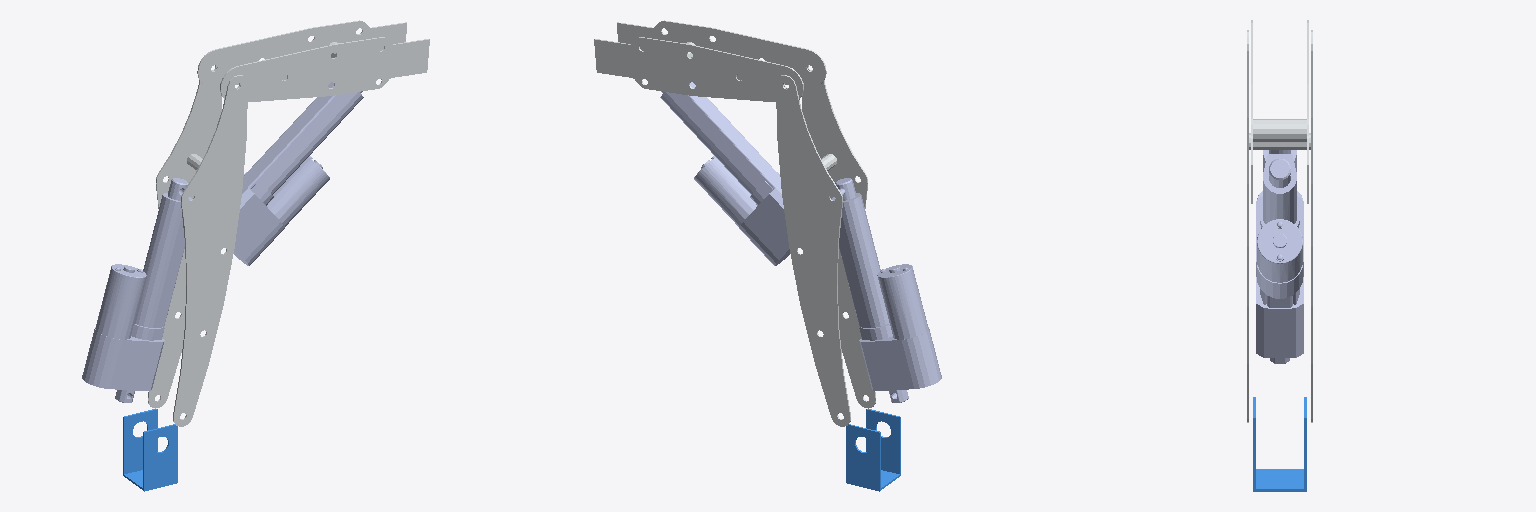
The robot description file, URDF, robot "arm_v2":
<?xml version="1.0" encoding="utf-8"?>
<!-- This URDF was automatically created by SolidWorks to URDF Exporter! Originally created by Stephen Brawner (brawner@gmail.com) 
     Commit Version: 1.6.0-4-g7f85cfe  Build Version: 1.6.7995.38578
     For more information, please see http://wiki.ros.org/sw_urdf_exporter -->
<robot
  name="arm_v2">
  <link
    name="base_link">
    <inertial>
      <origin
        xyz="0 4.8619E-18 0.0325"
        rpy="0 0 0" />
      <mass
        value="1.2622" />
      <inertia
        ixx="0.0027894"
        ixy="3.0464E-37"
        ixz="-7.8628E-36"
        iyy="0.0027894"
        iyz="-5.0096E-36"
        izz="0.00469" />
    </inertial>
    <visual>
      <origin
        xyz="0 0 0"
        rpy="0 0 0" />
      <geometry>
        <mesh
          filename="package://arm_v2/meshes/base_link.STL" />
      </geometry>
      <material
        name="">
        <color
          rgba="0.34118 0.66667 1 1" />
      </material>
    </visual>
    <collision>
      <origin
        xyz="0 0 0"
        rpy="0 0 0" />
      <geometry>
        <mesh
          filename="package://arm_v2/meshes/base_link.STL" />
      </geometry>
    </collision>
  </link>
  <link
    name="bracket_link">
    <inertial>
      <origin
        xyz="3.1709E-05 -1.0994E-17 0.021174"
        rpy="0 0 0" />
      <mass
        value="0.1844" />
      <inertia
        ixx="0.00016429"
        ixy="-5.5944E-20"
        ixz="-1.128E-06"
        iyy="0.00012823"
        iyz="-3.7411E-20"
        izz="0.00017784" />
    </inertial>
    <visual>
      <origin
        xyz="0 0 0"
        rpy="0 0 0" />
      <geometry>
        <mesh
          filename="package://arm_v2/meshes/bracket_link.STL" />
      </geometry>
      <material
        name="">
        <color
          rgba="0.89804 0.91765 0.92941 1" />
      </material>
    </visual>
    <collision>
      <origin
        xyz="0 0 0"
        rpy="0 0 0" />
      <geometry>
        <mesh
          filename="package://arm_v2/meshes/bracket_link.STL" />
      </geometry>
    </collision>
  </link>
  <joint
    name="bracket_joint"
    type="revolute">
    <origin
      xyz="0 0 0.056"
      rpy="0 0 0" />
    <parent
      link="base_link" />
    <child
      link="bracket_link" />
    <axis
      xyz="0 0 1" />
    <limit
      lower="-1.5"
      upper="1.5"
      effort="0"
      velocity="0" />
    <dynamics
      damping="0.05"
      friction="0.1" />
  </joint>
  <link
    name="actuator_humerus_link">
    <inertial>
      <origin
        xyz="0.0091905 -1.6846E-16 0.085885"
        rpy="0 0 0" />
      <mass
        value="0.39053" />
      <inertia
        ixx="0.0011334"
        ixy="1.5572E-19"
        ixz="-0.00034359"
        iyy="0.0014183"
        iyz="4.2582E-19"
        izz="0.0003715" />
    </inertial>
    <visual>
      <origin
        xyz="0 0 0"
        rpy="0 0 0" />
      <geometry>
        <mesh
          filename="package://arm_v2/meshes/actuator_humerus_link.STL" />
      </geometry>
      <material
        name="">
        <color
          rgba="0.79216 0.81961 0.93333 1" />
      </material>
    </visual>
    <collision>
      <origin
        xyz="0 0 0"
        rpy="0 0 0" />
      <geometry>
        <mesh
          filename="package://arm_v2/meshes/actuator_humerus_link.STL" />
      </geometry>
    </collision>
  </link>
  <joint
    name="actuator_humerus_joint"
    type="revolute">
    <origin
      xyz="-0.0318 0 0.056875"
      rpy="0 0 0" />
    <parent
      link="bracket_link" />
    <child
      link="actuator_humerus_link" />
    <axis
      xyz="0 1 0" />
    <limit
      lower="-1.5"
      upper="1.5"
      effort="0"
      velocity="0" />
    <dynamics
      damping="0.1"
      friction="0.25" />
  </joint>
  <link
    name="shaft_humerus_link">
    <inertial>
      <origin
        xyz="0.025159 -4.8418E-07 0.087064"
        rpy="0 0 0" />
      <mass
        value="0.056658" />
      <inertia
        ixx="0.00014546"
        ixy="6.4301E-10"
        ixz="-4.1215E-05"
        iyy="0.0001574"
        iyz="2.2272E-09"
        izz="1.4743E-05" />
    </inertial>
    <visual>
      <origin
        xyz="0 0 0"
        rpy="0 0 0" />
      <geometry>
        <mesh
          filename="package://arm_v2/meshes/shaft_humerus_link.STL" />
      </geometry>
      <material
        name="">
        <color
          rgba="0.79216 0.81961 0.93333 1" />
      </material>
    </visual>
    <collision>
      <origin
        xyz="0 0 0"
        rpy="0 0 0" />
      <geometry>
        <mesh
          filename="package://arm_v2/meshes/shaft_humerus_link.STL" />
      </geometry>
    </collision>
  </link>
  <joint
    name="shaft_humerus_joint"
    type="prismatic">
    <origin
      xyz="0.019073 0 0.066004"
      rpy="0 0 0" />
    <parent
      link="actuator_humerus_link" />
    <child
      link="shaft_humerus_link" />
    <axis
      xyz="0.27761 0 0.96069" />
    <limit
      lower="0"
      upper="0.3"
      effort="0"
      velocity="0" />
    <dynamics
      damping="0.1"
      friction="1.00" />
  </joint>
  <link
    name="humerus_link">
    <inertial>
      <origin
        xyz="0.037068 -0.027 0.21239"
        rpy="0 0 0" />
      <mass
        value="0.23656" />
      <inertia
        ixx="0.0024439"
        ixy="6.3046E-18"
        ixz="-0.00033966"
        iyy="0.0023823"
        iyz="-1.3656E-19"
        izz="0.00028041" />
    </inertial>
    <visual>
      <origin
        xyz="0 0 0"
        rpy="0 0 0" />
      <geometry>
        <mesh
          filename="package://arm_v2/meshes/humerus_link.STL" />
      </geometry>
      <material
        name="">
        <color
          rgba="0.89804 0.91765 0.92941 1" />
      </material>
    </visual>
    <collision>
      <origin
        xyz="0 0 0"
        rpy="0 0 0" />
      <geometry>
        <mesh
          filename="package://arm_v2/meshes/humerus_link.STL" />
      </geometry>
    </collision>
  </link>
  <joint
    name="humerus_low_joint"
    type="revolute">
    <origin
      xyz="0.02545 0.027 0.0267"
      rpy="0 0 0" />
    <parent
      link="bracket_link" />
    <child
      link="humerus_link" />
    <axis
      xyz="0 1 0" />
    <limit
      lower="-1.5"
      upper="1.5"
      effort="0"
      velocity="0" />
    <dynamics
      damping="0.1"
      friction="0.25" />
  </joint>
  <link
    name="forearm_link">
    <inertial>
      <origin
        xyz="0.12305 -0.024 -0.010891"
        rpy="0 0 0" />
      <mass
        value="0.18818" />
      <inertia
        ixx="0.00014001"
        ixy="3.5309E-20"
        ixz="6.5137E-05"
        iyy="0.00081388"
        iyz="4.9832E-21"
        izz="0.00087088" />
    </inertial>
    <visual>
      <origin
        xyz="0 0 0"
        rpy="0 0 0" />
      <geometry>
        <mesh
          filename="package://arm_v2/meshes/forearm_link.STL" />
      </geometry>
      <material
        name="">
        <color
          rgba="0.89804 0.91765 0.92941 1" />
      </material>
    </visual>
    <collision>
      <origin
        xyz="0 0 0"
        rpy="0 0 0" />
      <geometry>
        <mesh
          filename="package://arm_v2/meshes/forearm_link.STL" />
      </geometry>
    </collision>
  </link>
  <joint
    name="forearm_low_joint"
    type="revolute">
    <origin
      xyz="0.070135 -0.003 0.3874"
      rpy="0 0 0" />
    <parent
      link="humerus_link" />
    <child
      link="forearm_link" />
    <axis
      xyz="0 1 0" />
    <limit
      lower="-1.5"
      upper="1.5"
      effort="0"
      velocity="0" />
    <dynamics
      damping="0.1"
      friction="0.25" />
  </joint>
  <link
    name="actuator_forearm_link">
    <inertial>
      <origin
        xyz="0.075992 -0.00889 0.04106"
        rpy="0 0 0" />
      <mass
        value="0.39053" />
      <inertia
        ixx="0.00072202"
        ixy="-1.5775E-19"
        ixz="-0.00051211"
        iyy="0.0014183"
        iyz="-1.2292E-19"
        izz="0.00078291" />
    </inertial>
    <visual>
      <origin
        xyz="0 0 0"
        rpy="0 0 0" />
      <geometry>
        <mesh
          filename="package://arm_v2/meshes/actuator_forearm_link.STL" />
      </geometry>
      <material
        name="">
        <color
          rgba="0.79216 0.81961 0.93333 1" />
      </material>
    </visual>
    <collision>
      <origin
        xyz="0 0 0"
        rpy="0 0 0" />
      <geometry>
        <mesh
          filename="package://arm_v2/meshes/actuator_forearm_link.STL" />
      </geometry>
    </collision>
  </link>
  <joint
    name="actuator_forearm_joint"
    type="revolute">
    <origin
      xyz="0.051816 -0.01811 0.18991"
      rpy="0 0 0" />
    <parent
      link="humerus_link" />
    <child
      link="actuator_forearm_link" />
    <axis
      xyz="0 1 0" />
    <limit
      lower="-1.5"
      upper="1.5"
      effort="0"
      velocity="0" />
    <dynamics
      damping="0.1"
      friction="0.25" />
  </joint>
  <link
    name="shaft_forearm_link">
    <inertial>
      <origin
        xyz="0.07103 -4.8425E-07 0.056284"
        rpy="0 0 0" />
      <mass
        value="0.056658" />
      <inertia
        ixx="6.2439E-05"
        ixy="1.8168E-09"
        ixz="-7.5222E-05"
        iyy="0.0001574"
        iyz="1.4403E-09"
        izz="9.7763E-05" />
    </inertial>
    <visual>
      <origin
        xyz="0 0 0"
        rpy="0 0 0" />
      <geometry>
        <mesh
          filename="package://arm_v2/meshes/shaft_forearm_link.STL" />
      </geometry>
      <material
        name="">
        <color
          rgba="0.79216 0.81961 0.93333 1" />
      </material>
    </visual>
    <collision>
      <origin
        xyz="0 0 0"
        rpy="0 0 0" />
      <geometry>
        <mesh
          filename="package://arm_v2/meshes/shaft_forearm_link.STL" />
      </geometry>
    </collision>
  </link>
  <joint
    name="shaft_forearm_joint"
    type="prismatic">
    <origin
      xyz="0.063117 -0.00889 0.050013"
      rpy="0 0 0" />
    <parent
      link="actuator_forearm_link" />
    <child
      link="shaft_forearm_link" />
    <axis
      xyz="0.78377 0 0.62105" />
    <limit
      lower="0"
      upper="0.3"
      effort="0"
      velocity="0" />
    <dynamics
      damping="0.1"
      friction="1.00" />
  </joint>
  <gazebo>
    <joint name="humerus_extra_joint" type="revolute">
      <pose relative_to='shaft_humerus_link'>0.04861899840 0.027000 0.16824910307 0 0 0</pose>
      <type>revolute</type>
      <parent>shaft_humerus_link</parent>
      <child>humerus_link</child>
      <axis>
        <xyz>0 1 0</xyz>
        <limit>
          <lower>-1.5</lower>
          <upper>1.5</upper>
        </limit>
        <dynamics>
          <damping>0.5</damping>
          <friction>0.05</friction>
          <spring_reference>0</spring_reference>
          <spring_stiffness>100</spring_stiffness>
        </dynamics>
      </axis>
    </joint>
    <joint name="forearm_extra_joint" type="revolute">
      <pose relative_to='shaft_forearm_link'>0.13726375011 0.024000 0.10876686349 0 0 0</pose>
      <type>revolute</type>
      <parent>shaft_forearm_link</parent>
      <child>forearm_link</child>
      <axis>
        <xyz>0 1 0</xyz>
        <limit>
          <lower>-1.5</lower>
          <upper>1.5</upper>
        </limit>
        <dynamics>
          <damping>0.5</damping>
          <friction>0.05</friction>
          <spring_reference>0</spring_reference>
          <spring_stiffness>100</spring_stiffness>
        </dynamics>
      </axis>
    </joint>
  </gazebo>
</robot>

--- What the picture shows (computed from the rendered views, not written in the file) ---
3 views of the same robot in one strip: view 1: azimuth 30°, elevation 25°; view 2: azimuth 150°, elevation 25°; view 3: azimuth 270°, elevation 25° (orthographic).
Robot: arm_v2 — 8 links, 7 joints (5 revolute, 2 prismatic); root link base_link; default pose: every joint at zero.
Links seen in each view (by area): view 1: humerus_link, forearm_link, actuator_humerus_link, actuator_forearm_link, base_link; view 2: humerus_link, forearm_link, actuator_humerus_link, actuator_forearm_link, base_link; view 3: actuator_forearm_link, actuator_humerus_link, forearm_link, humerus_link, base_link, shaft_forearm_link.
Boxes of the visible links, x1=… form: humerus_link: x1=148, y1=65, x2=247, y2=426; forearm_link: x1=197, y1=20, x2=429, y2=101; actuator_humerus_link: x1=82, y1=193, x2=192, y2=402; actuator_forearm_link: x1=234, y1=82, x2=363, y2=265; base_link: x1=123, y1=409, x2=177, y2=491; humerus_link: x1=776, y1=65, x2=875, y2=426; forearm_link: x1=594, y1=20, x2=826, y2=101; actuator_humerus_link: x1=831, y1=193, x2=941, y2=402; actuator_forearm_link: x1=660, y1=82, x2=789, y2=265; base_link: x1=846, y1=409, x2=900, y2=491; actuator_forearm_link: x1=1256, y1=154, x2=1303, y2=298; actuator_humerus_link: x1=1256, y1=150, x2=1303, y2=363; forearm_link: x1=1251, y1=20, x2=1308, y2=203; humerus_link: x1=1247, y1=30, x2=1312, y2=422; base_link: x1=1253, y1=397, x2=1306, y2=491; shaft_forearm_link: x1=1269, y1=158, x2=1290, y2=187.
Bounding box of the posed robot: 0.4267 × 0.058 × 0.4922 m (x, y, z).
Meshes: 8 distinct files referenced, 7 mesh visuals loaded (7 binary STL); not drawn: 1 (reference not matched to a file when rendering).
